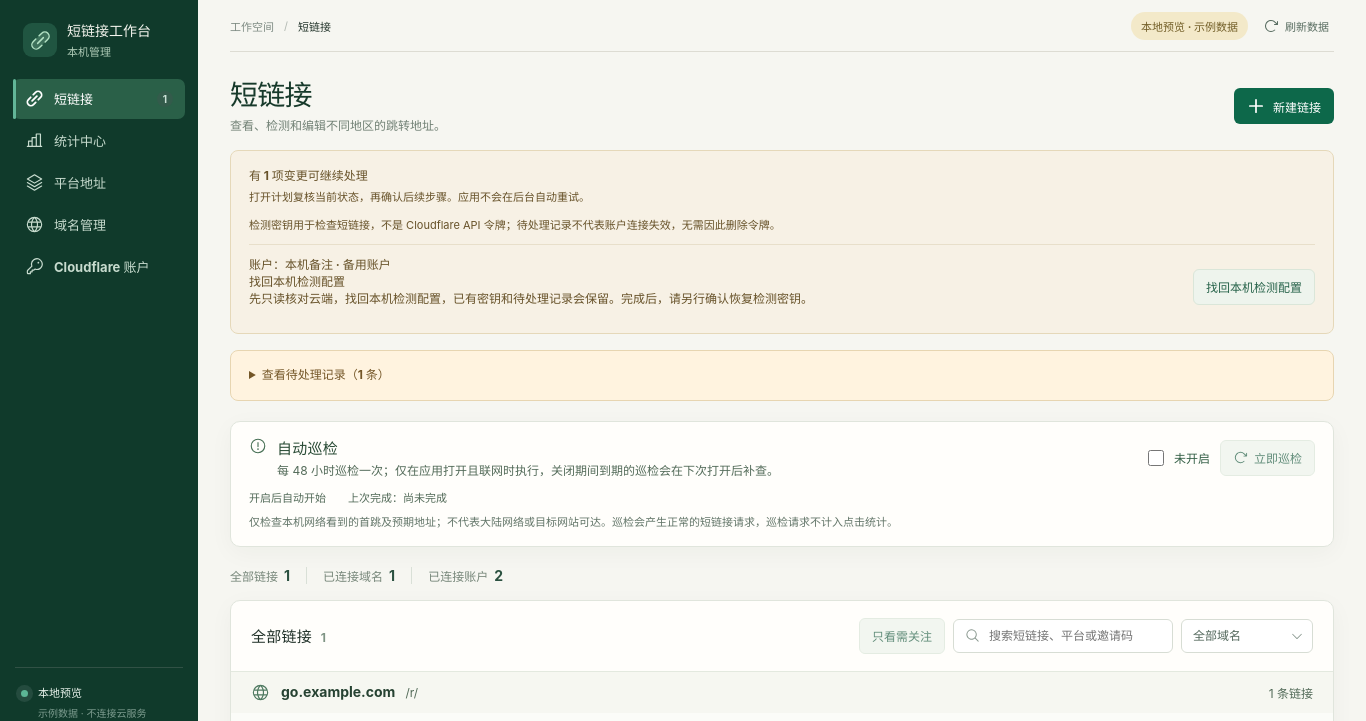
keeps the recovery entry and journal after apply failure, with no automatic retry
Click the button "找回本机检测配置" at {"x": 1254, "y": 287}, box [1193,269,1315,305]
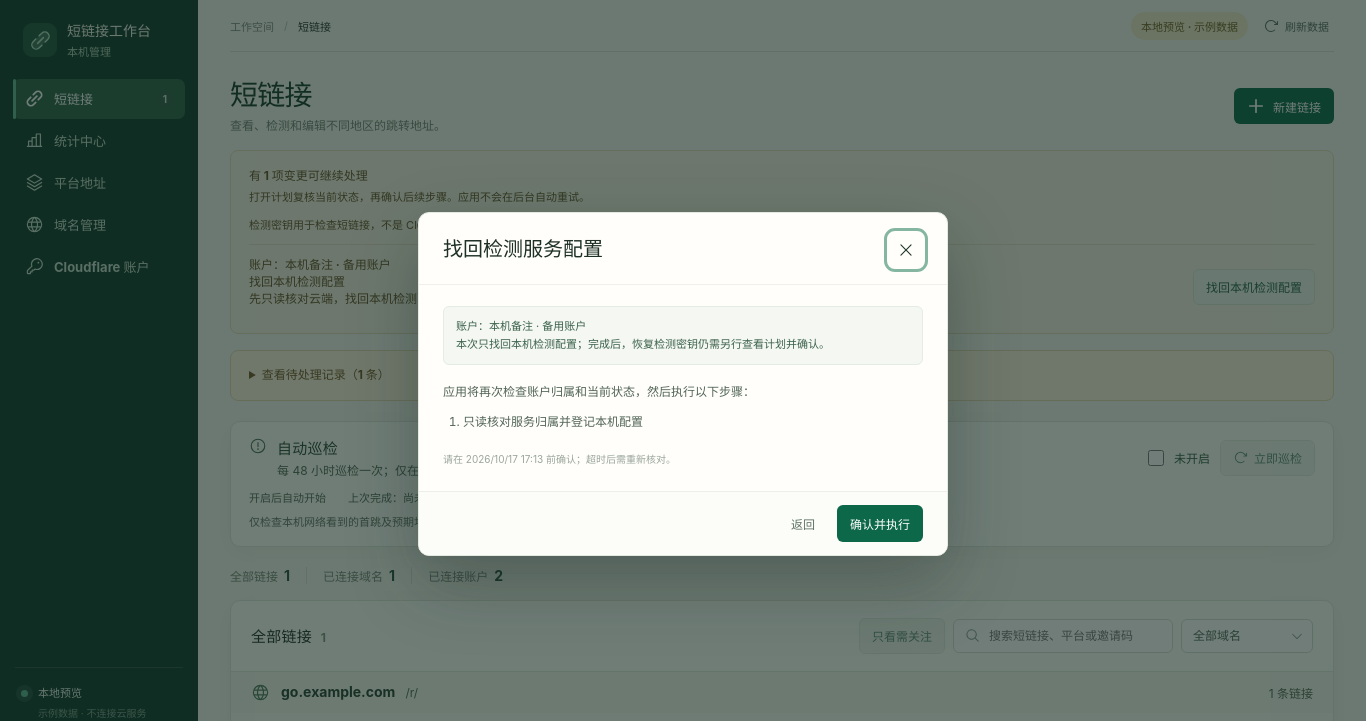
Click the button "确认并执行" at {"x": 880, "y": 524}, box [837,505,923,542]
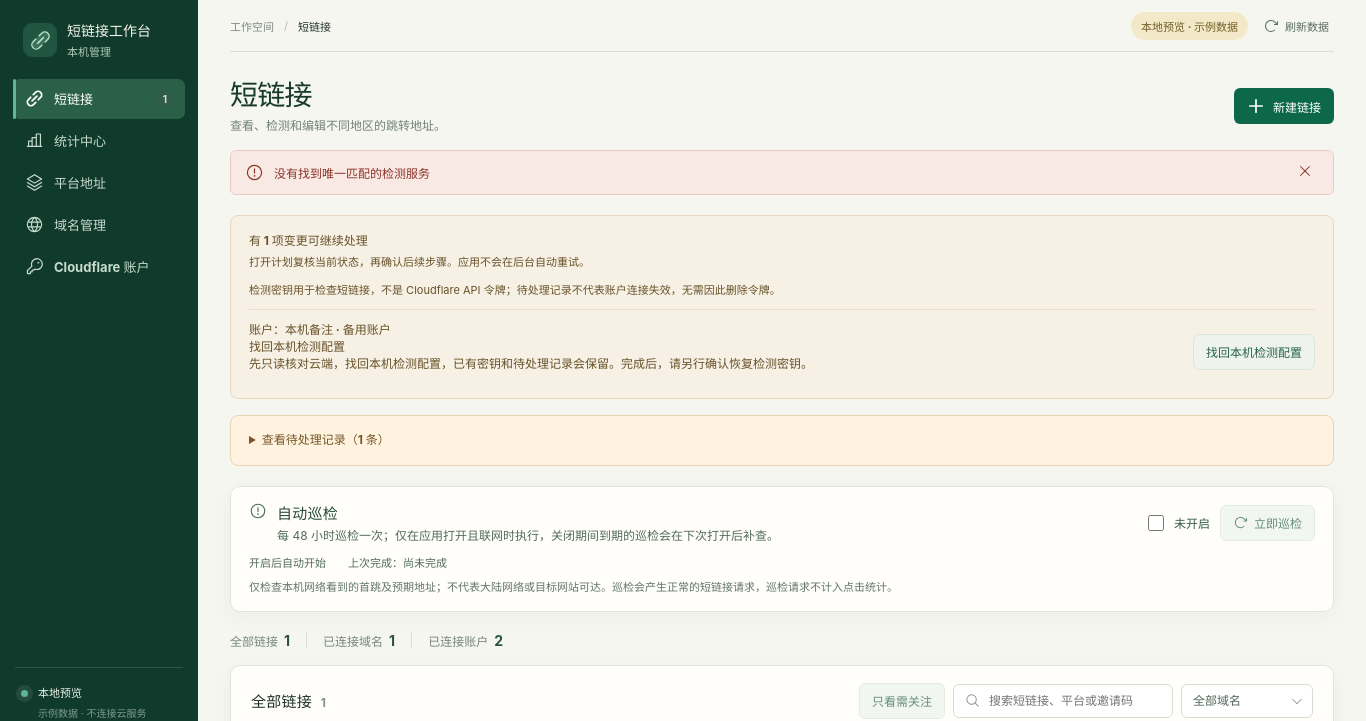
Check: the button "找回本机检测配置" is shown, box [1193,334,1315,370]
Check: the message reads "没有找到唯一匹配的检测服务", box [274,166,430,181]
